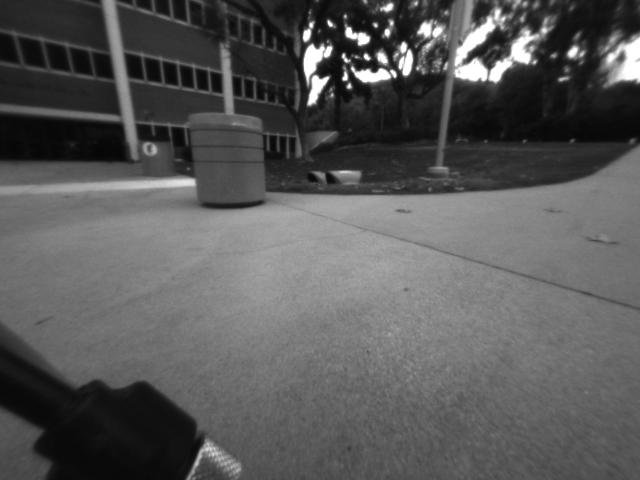trashcan: (183, 109, 276, 211), (133, 128, 174, 179)
